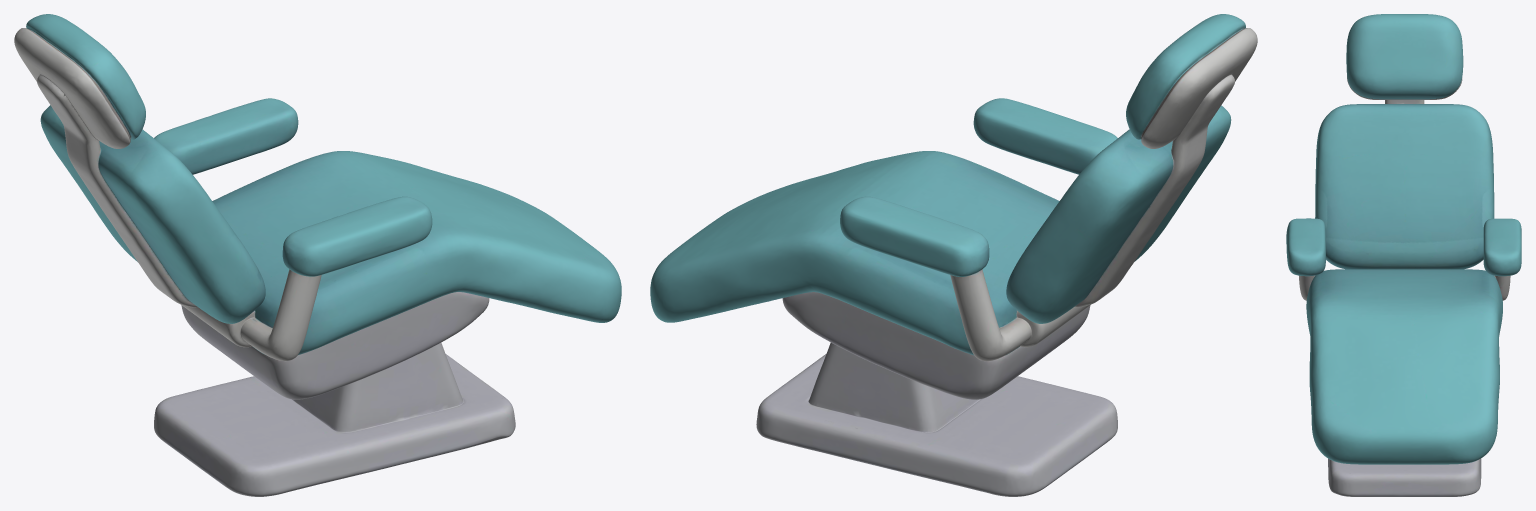
Rendered from sillon.glb.
The picture shows the model from 3 angles, left to right: view 1: azimuth 30°, elevation 25°; view 2: azimuth 150°, elevation 25°; view 3: azimuth 270°, elevation 25°; orthographic projection. The views are drawn at different scales.
Parts seen in each view (by area): view 1: tripo_node_be868c59-3345-42fa-a240-2815abaec512; view 2: tripo_node_be868c59-3345-42fa-a240-2815abaec512; view 3: tripo_node_be868c59-3345-42fa-a240-2815abaec512.
Part boxes in pixels (bbox=[...]): tripo_node_be868c59-3345-42fa-a240-2815abaec512: bbox=[14, 14, 621, 496]; tripo_node_be868c59-3345-42fa-a240-2815abaec512: bbox=[650, 14, 1257, 496]; tripo_node_be868c59-3345-42fa-a240-2815abaec512: bbox=[1286, 14, 1521, 496].
Size of the model in its own units: 1.34 by 1.1 by 0.6923.
Materials: 1 (1 with a texture image).
